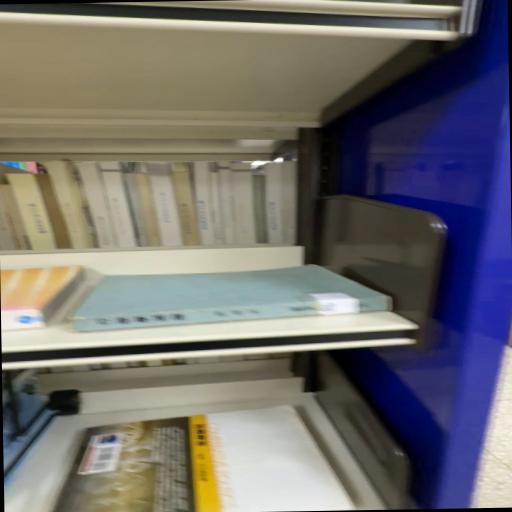flat: (52, 406, 353, 512), (71, 265, 392, 332)
